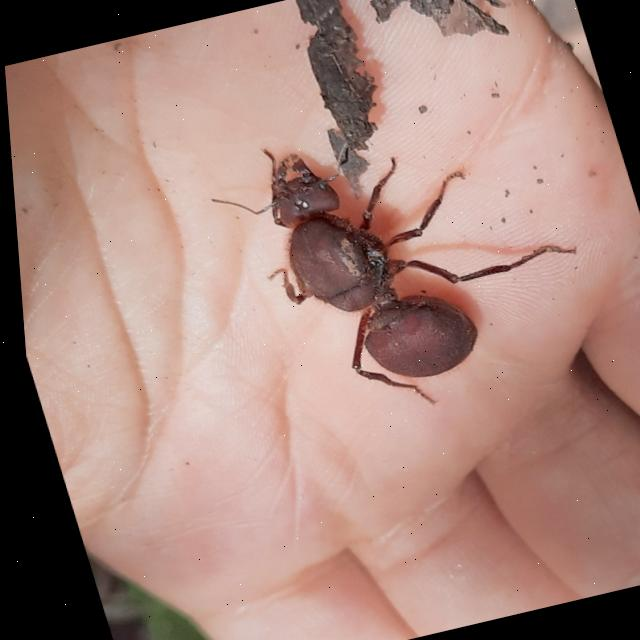Alive-Female-Dealate: (190, 84, 613, 438)
